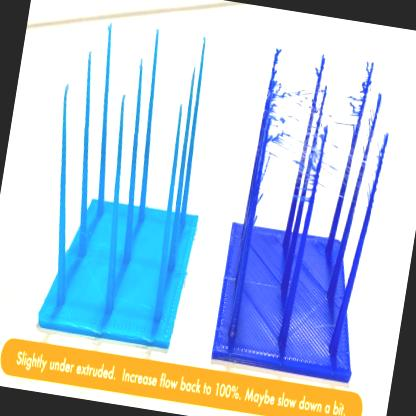fail: (260, 50, 320, 176), (329, 55, 376, 149)
